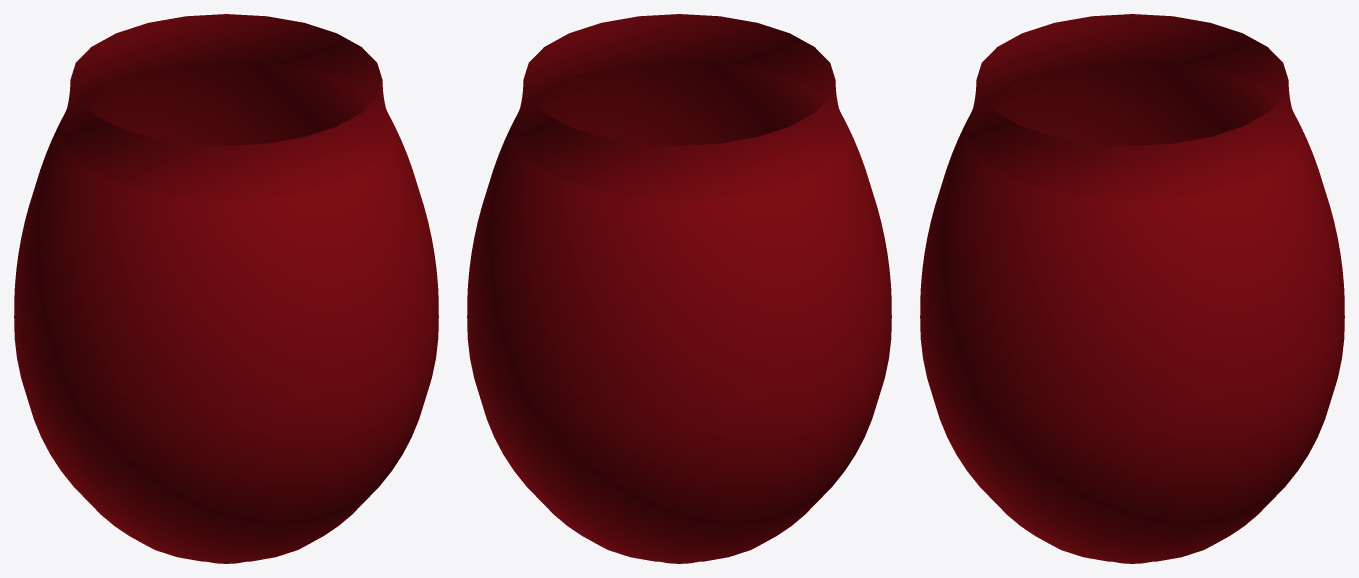
File: beer_content3.dae
3 views of the same model, side by side, from view 1: azimuth 30°, elevation 25°; view 2: azimuth 150°, elevation 25°; view 3: azimuth 270°, elevation 25° (orthographic).
Parts seen in each view (by area): view 1: _13oz_Libbey_Belgian_Snifter; view 2: _13oz_Libbey_Belgian_Snifter; view 3: _13oz_Libbey_Belgian_Snifter.
Part boxes in pixels (box(x1,y1,x2,y2)): _13oz_Libbey_Belgian_Snifter: box(14, 14, 438, 563); _13oz_Libbey_Belgian_Snifter: box(467, 14, 891, 563); _13oz_Libbey_Belgian_Snifter: box(920, 14, 1344, 563).
Bounding box in the file's own units: 2.78 × 2.78 × 3.43.
